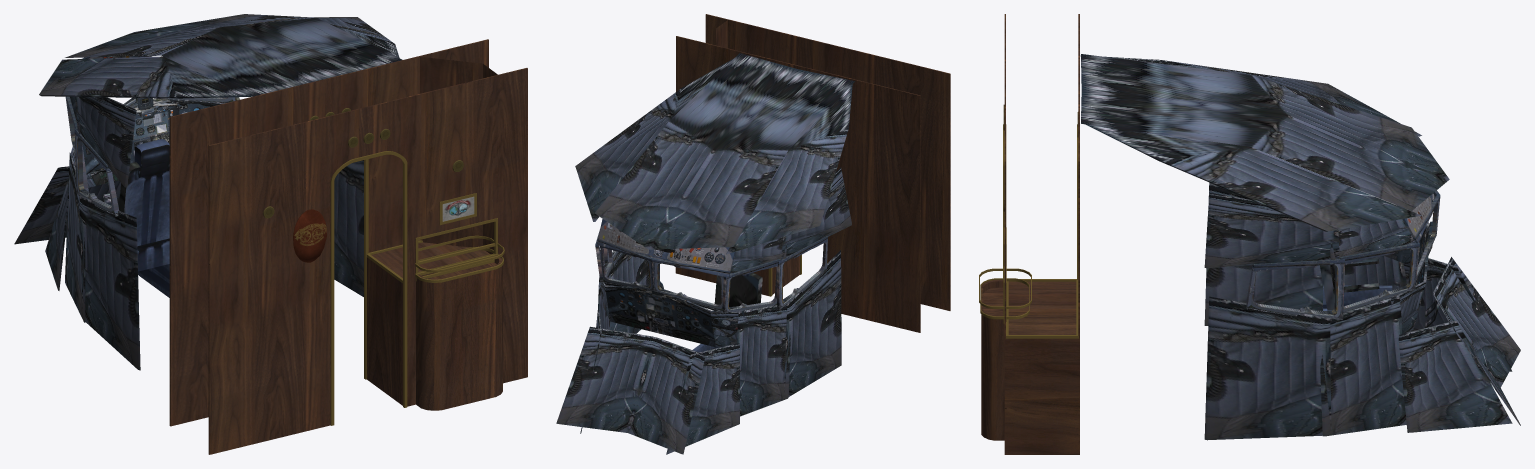
The model's file is plane_cockpit_one_chair.dae.
3 views of the same model, side by side, from view 1: azimuth 30°, elevation 25°; view 2: azimuth 150°, elevation 25°; view 3: azimuth 270°, elevation 25° (orthographic). The views are drawn at different scales.
Visible parts, largest first — view 1: Wall, Plate_sterling, Wall7, intro_seat_base1, intro_interior_lights10; view 2: Plate_sterling, Wall; view 3: Plate_sterling, Wall, Wall7.
Part boxes in pixels (bbox=[...]): Wall: bbox=[169, 39, 527, 454]; Plate_sterling: bbox=[14, 14, 474, 370]; Wall7: bbox=[330, 151, 504, 425]; intro_seat_base1: bbox=[293, 209, 326, 262]; intro_interior_lights10: bbox=[263, 108, 463, 218]; Plate_sterling: bbox=[556, 53, 854, 454]; Wall: bbox=[675, 14, 950, 332]; Plate_sterling: bbox=[1080, 54, 1520, 440]; Wall: bbox=[981, 14, 1079, 454]; Wall7: bbox=[979, 124, 1078, 338].
Bounding box in the file's own units: 2.7 × 2.64 × 4.18.
